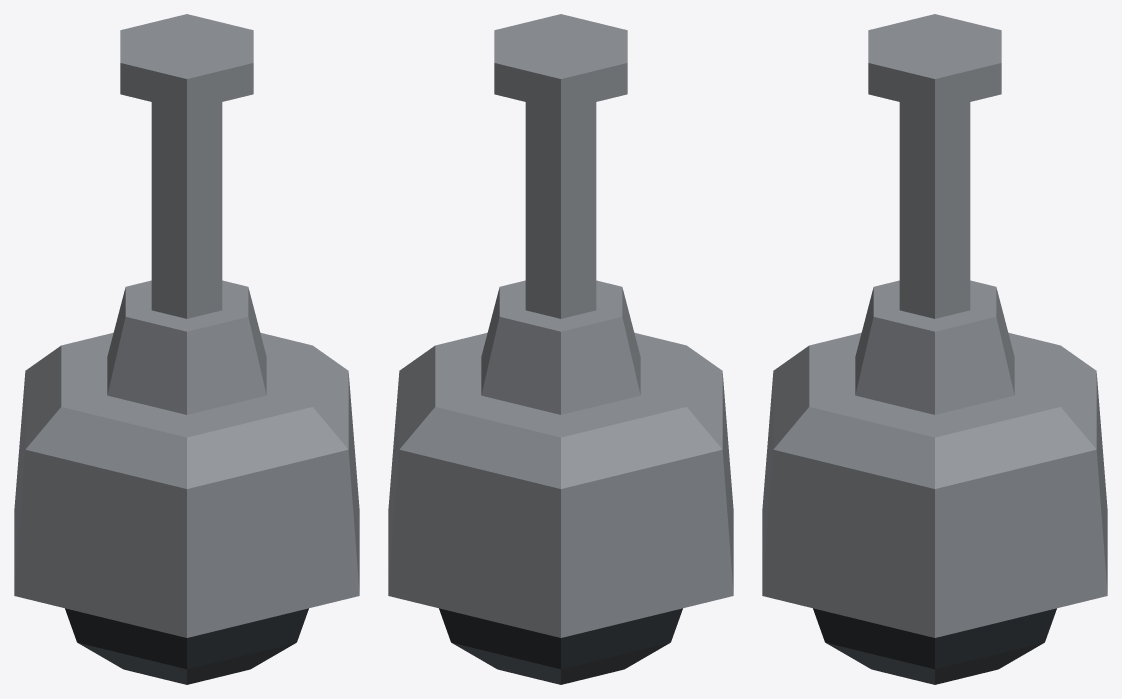
Rendered from SM_Prop_Security_Camera_02.glb.
3 views of the same model, side by side, from view 1: azimuth 30°, elevation 25°; view 2: azimuth 150°, elevation 25°; view 3: azimuth 270°, elevation 25° (orthographic).
Parts seen in each view (by area): view 1: SM_Prop_Security_Camera_02; view 2: SM_Prop_Security_Camera_02; view 3: SM_Prop_Security_Camera_02.
Part boxes in pixels (left/top/right/bottom): SM_Prop_Security_Camera_02: left=14, top=14, right=359, bottom=684; SM_Prop_Security_Camera_02: left=388, top=14, right=733, bottom=684; SM_Prop_Security_Camera_02: left=762, top=14, right=1107, bottom=684.
Bounding box in the file's own units: 0.2972 × 0.5107 × 0.2574.
1 material, 1 textured.
